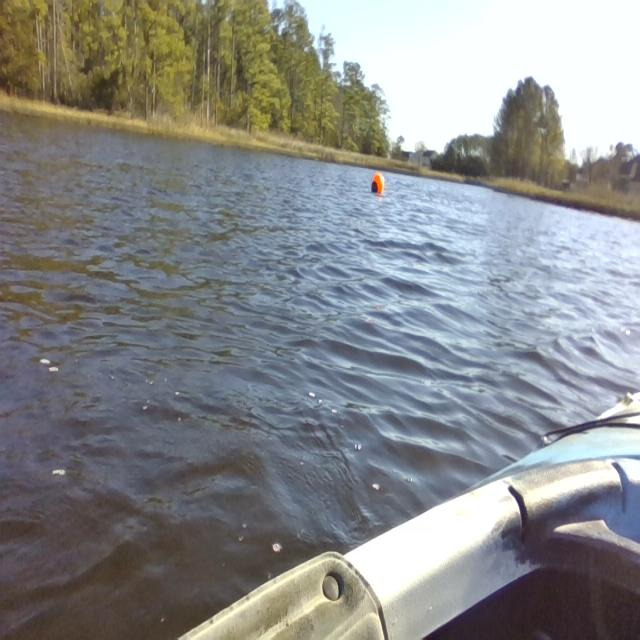Buoy: (364, 169, 389, 199)
